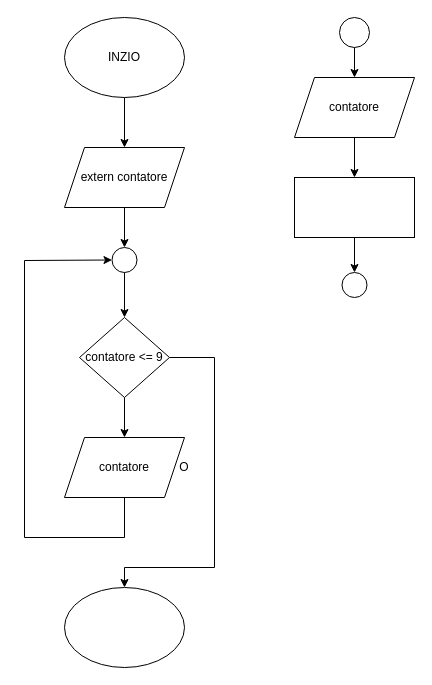
Image size: 432x685. Some labels were removed from this diagram. The shapes that lost their labels are listed below. From the top down, each one's centre as x and y in pixels, then its label:
the point at 354,207: contatore = 0
the point at 124,627: FINE
